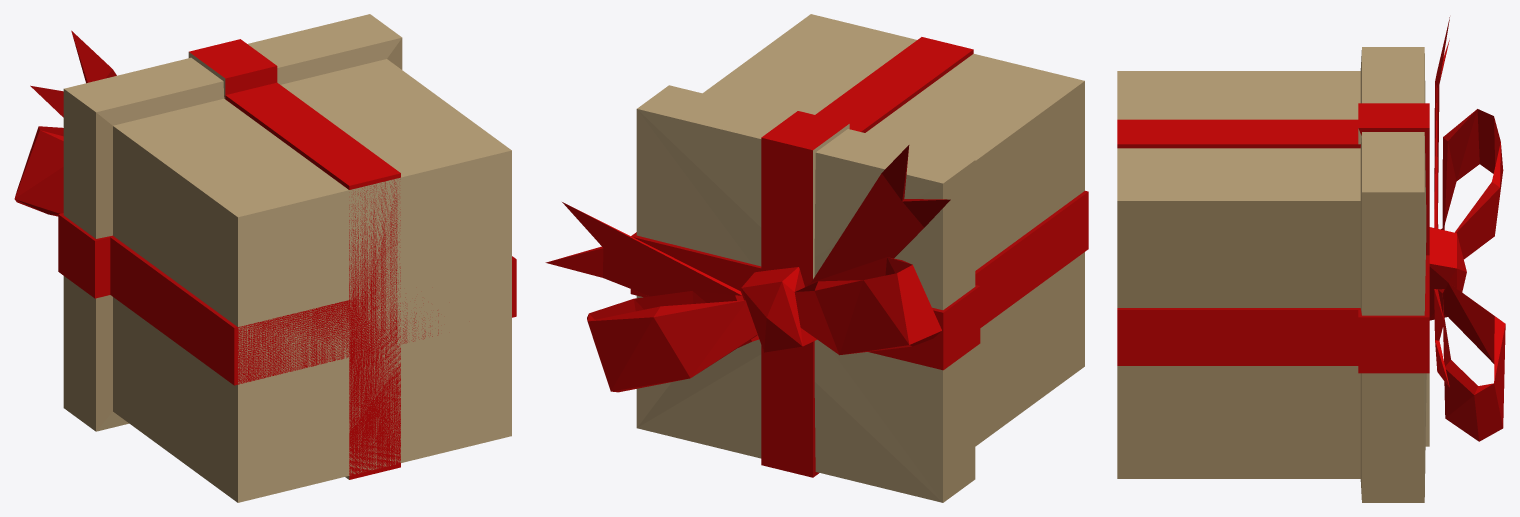
The model's file is gift_box_3.fbx.
3 renders of one model, left to right at view 1: azimuth 30°, elevation 25°; view 2: azimuth 150°, elevation 25°; view 3: azimuth 270°, elevation 25°, orthographic. The views are drawn at different scales.
Visible parts, largest first — view 1: gift_box_3; view 2: gift_box_3; view 3: gift_box_3.
Part boxes in pixels (x1=…): gift_box_3: x1=14, y1=14, x2=516, y2=502; gift_box_3: x1=545, y1=14, x2=1088, y2=502; gift_box_3: x1=1117, y1=17, x2=1505, y2=502.
Size of the model in its own units: 325 by 279 by 274.
